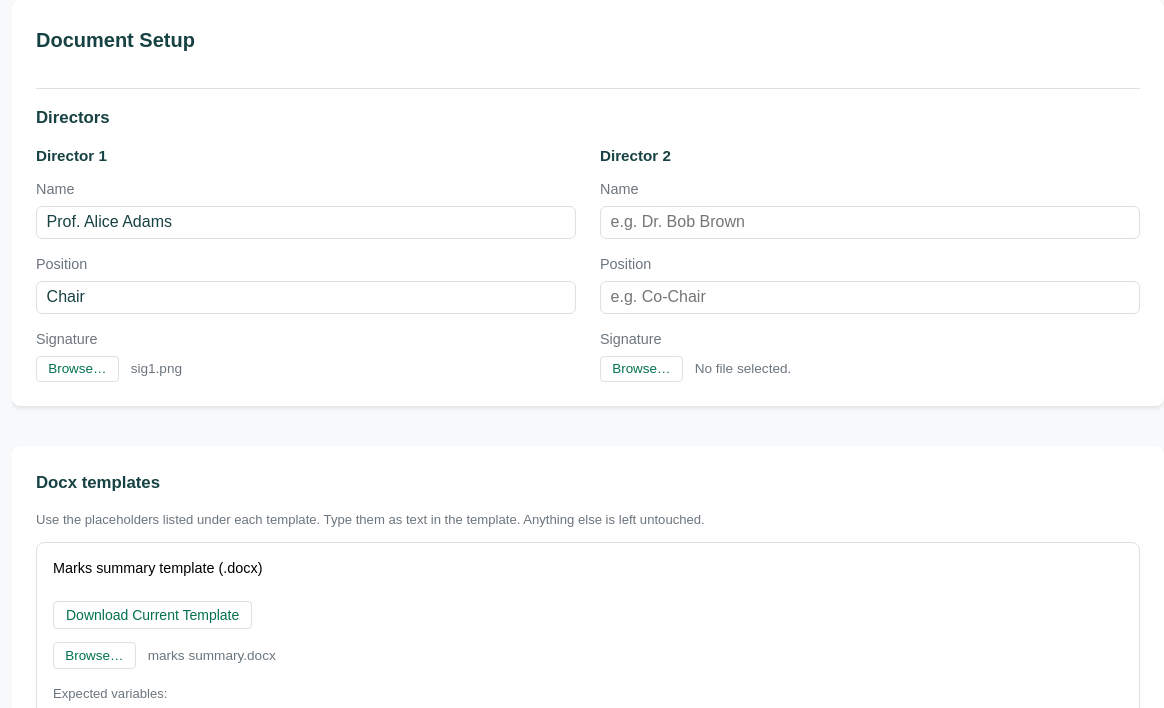
saving › stays disabled until something actually differs
Replace the text in the field labelled "Name" below "Director 1" with "Prof. Alicia Adams": (306, 222) top-left (36, 206), bottom-right (576, 239)
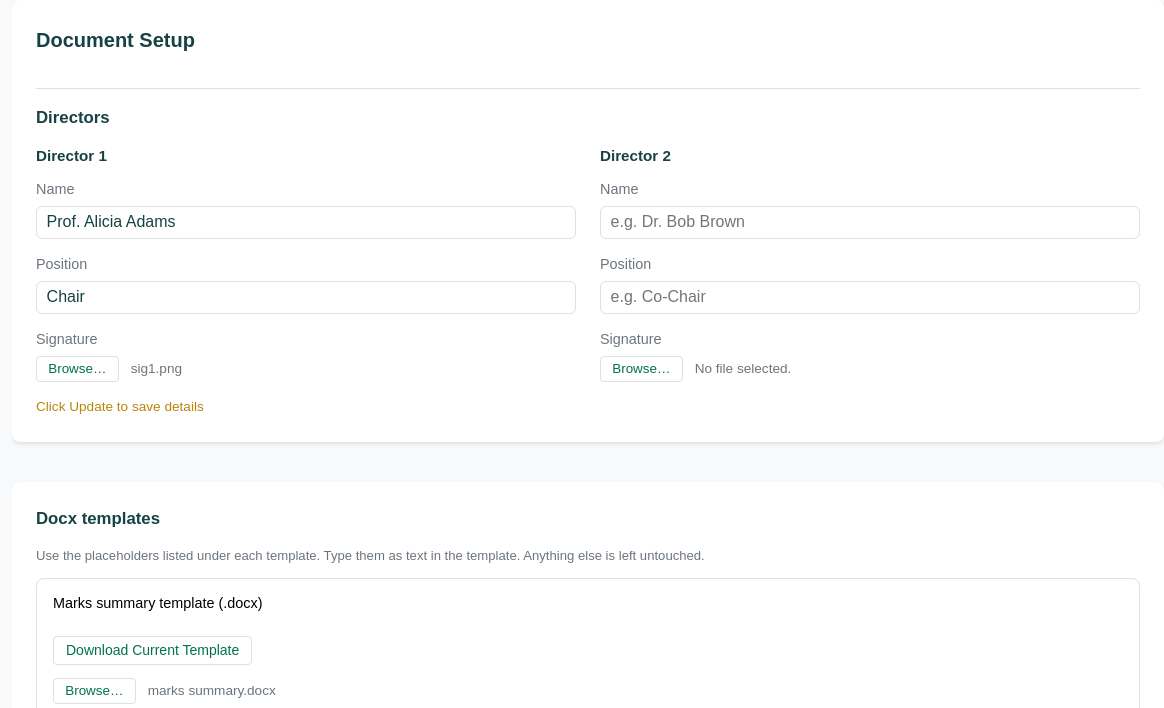
# Retyping the stored value counts as clean again.
Replace the text in the field labelled "Name" below "Director 1" with "Prof. Alice Adams": (306, 222) top-left (36, 206), bottom-right (576, 239)
(page scrolled)
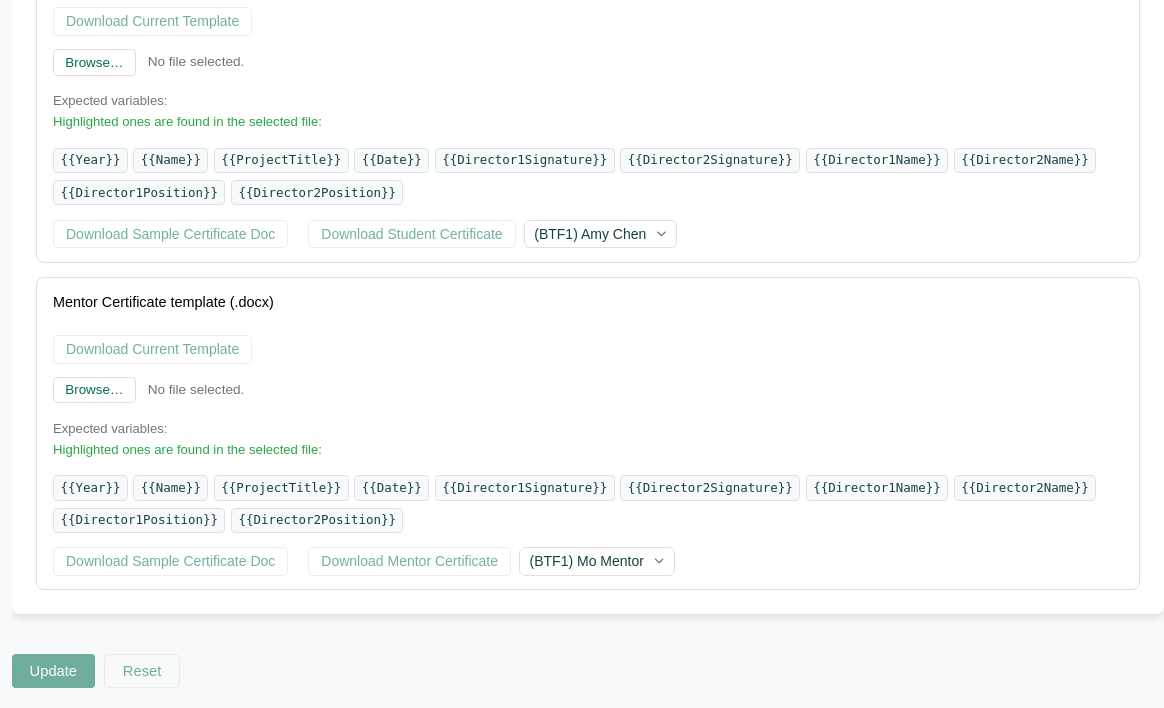
Expected: the button "Update" is disabled, top-left (12, 654), bottom-right (95, 688)
